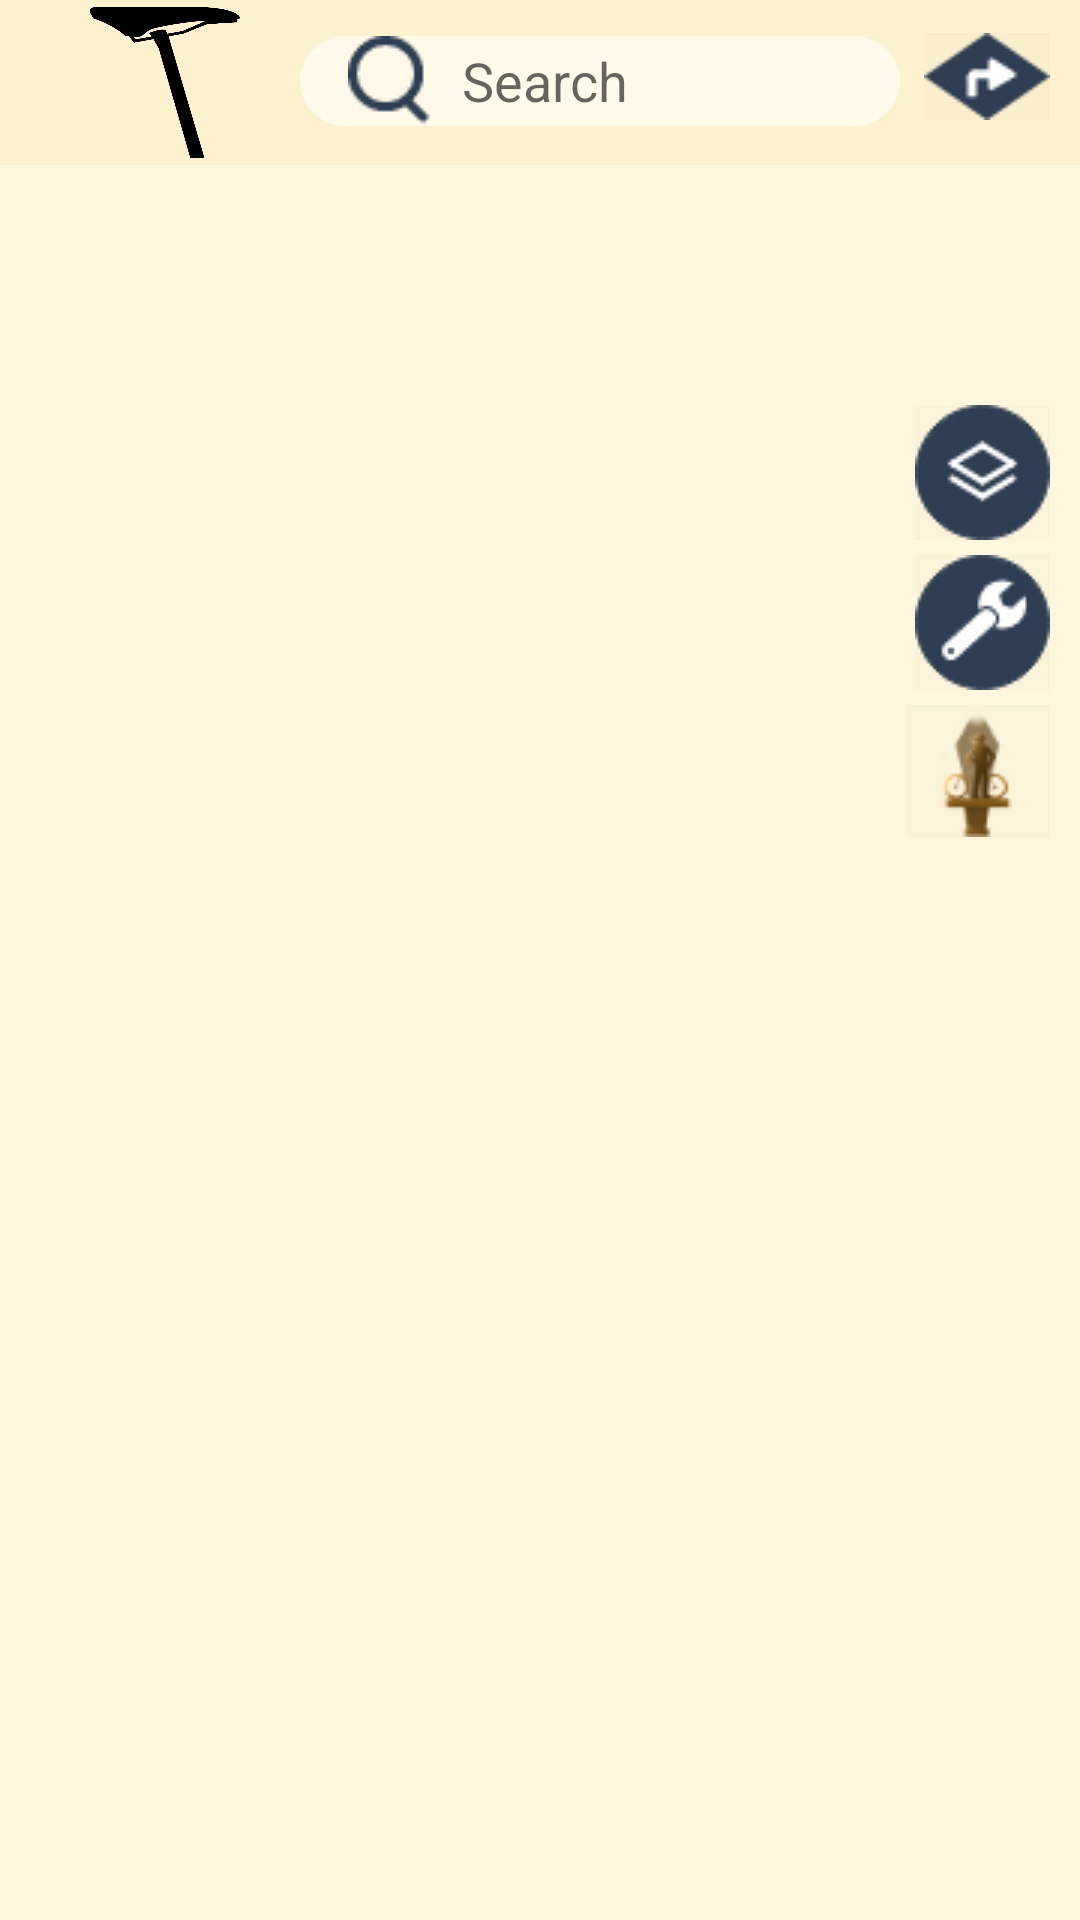

Icon click points for this 1080x1920 phone screenshot, format (x,y):
destination: (987,76)
maptype: (982,472)
wrench: (982,622)
